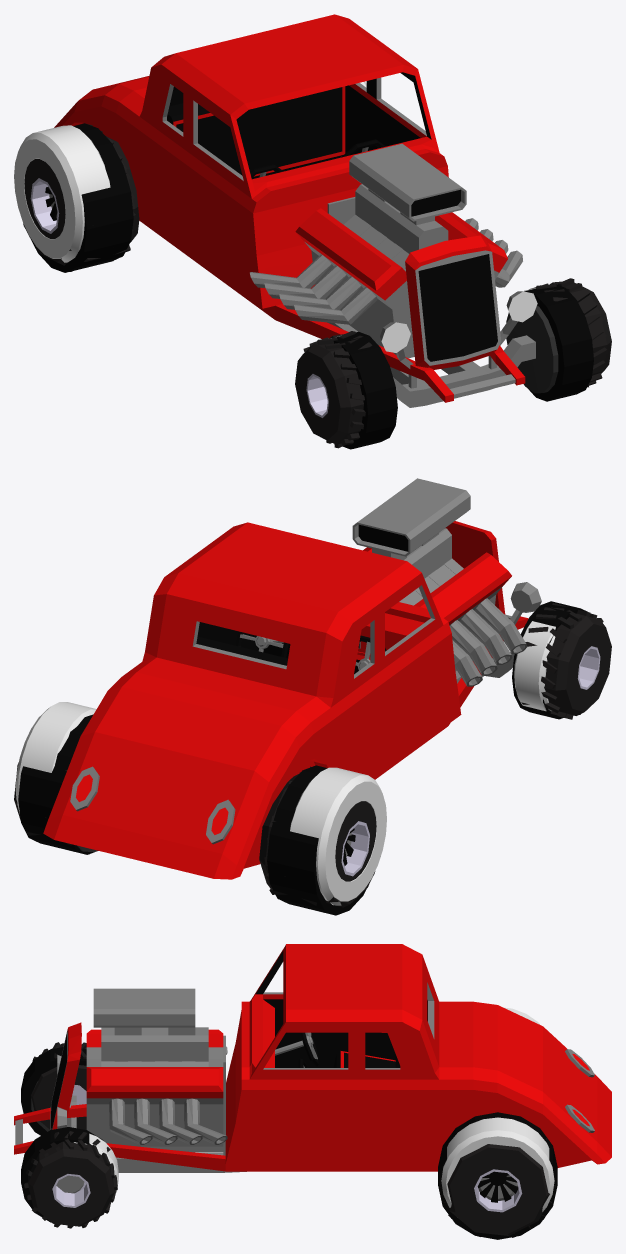
Rendered from hotroadwithwheels.fbx.
3 views of the same model, one above another, from view 1: azimuth 30°, elevation 25°; view 2: azimuth 150°, elevation 25°; view 3: azimuth 270°, elevation 25° (orthographic). The views are drawn at different scales.
Parts seen in each view (by area): view 1: car.001, wheels3.006, Monster Truck wheel front left.003, wheels1_4, wheels1_2, wheels1_1, Monster Truck wheel front left.004, wheels4.005, Monster Truck wheel front left.001; view 2: car.001, wheels3.006, Monster Truck wheel front left.003, wheels1_4, wheels1_3, Monster Truck wheel front left.004, wheels3.008, wheels3.005, wheels1_1; view 3: car.001, Monster Truck wheel front left.002, Monster Truck wheel front left.001, wheels3.008, wheels1_3, wheels1_2, Monster Truck wheel front left.003, wheels1_1, wheels3.007.
Boxes of the visible parts, x1,y1,x2,y2 form: car.001: [54, 14, 537, 407]; wheels3.006: [14, 125, 110, 262]; Monster Truck wheel front left.003: [295, 331, 372, 448]; wheels1_4: [27, 123, 133, 272]; wheels1_2: [525, 284, 593, 401]; wheels1_1: [333, 331, 397, 449]; Monster Truck wheel front left.004: [23, 124, 139, 271]; wheels4.005: [506, 305, 558, 393]; Monster Truck wheel front left.001: [529, 278, 611, 387]; car.001: [43, 478, 541, 879]; wheels3.006: [290, 767, 386, 905]; Monster Truck wheel front left.003: [521, 603, 611, 719]; wheels1_4: [267, 765, 375, 915]; wheels1_3: [18, 714, 98, 854]; Monster Truck wheel front left.004: [259, 766, 376, 907]; wheels3.008: [15, 702, 96, 813]; wheels3.005: [514, 621, 555, 711]; wheels1_1: [512, 601, 587, 719]; car.001: [14, 944, 611, 1172]; Monster Truck wheel front left.002: [440, 1138, 555, 1237]; Monster Truck wheel front left.001: [24, 1131, 117, 1228]; wheels3.008: [441, 1117, 554, 1211]; wheels1_3: [438, 1112, 557, 1239]; wheels1_2: [21, 1127, 103, 1222]; Monster Truck wheel front left.003: [31, 1042, 86, 1129]; wheels1_1: [21, 1047, 86, 1135]; wheels3.007: [74, 1133, 118, 1193].
Size of the model in its own units: 242 by 178 by 476.
